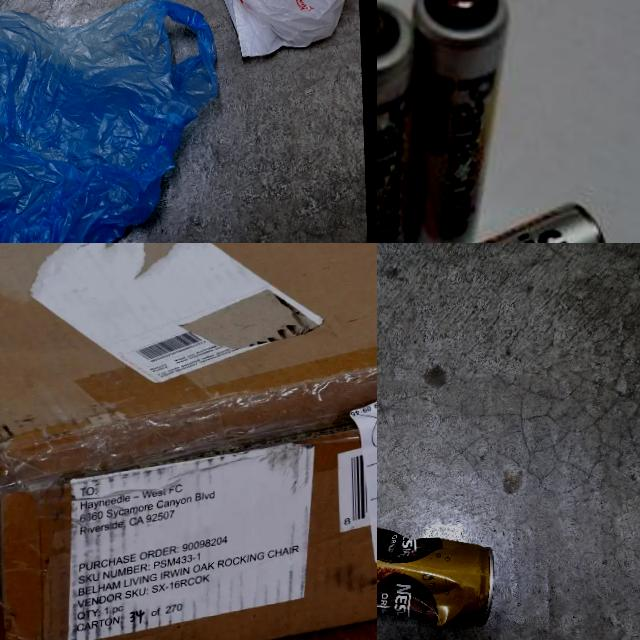bateria: (400, 0, 515, 243), (377, 0, 427, 243)
lata: (377, 515, 496, 632)
papelão: (0, 243, 377, 640)
sacola plástica: (0, 0, 222, 243), (0, 0, 360, 69)
